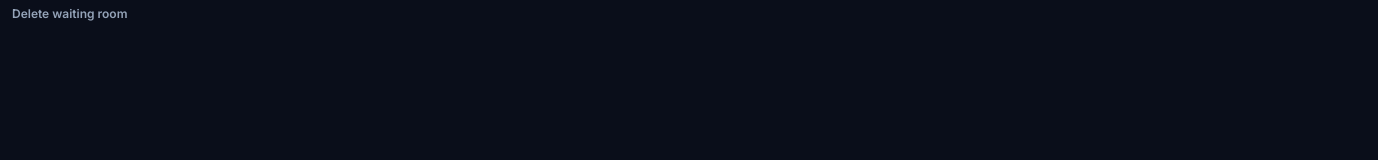
Test: DeleteRoomButton › shows a caution panel before exposing the final delete action
Click the button with test id "open-delete-room-confirmation": (70, 14) left=12, top=6, right=128, bottom=22
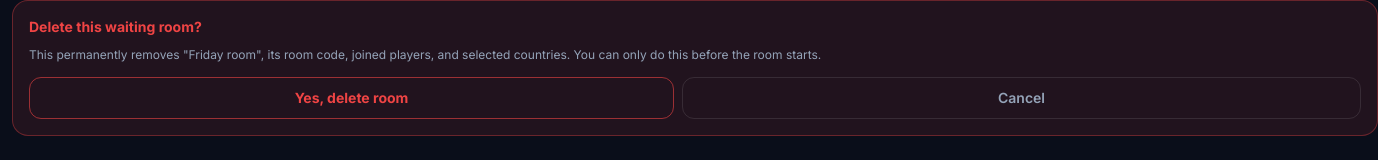
Result: the message with test id "delete-room-confirmation" is shown
Result: the text "Delete this waiting room?" is shown at left=29, top=18, right=202, bottom=35
Result: the text "permanently removes" is shown at left=29, top=47, right=183, bottom=62
